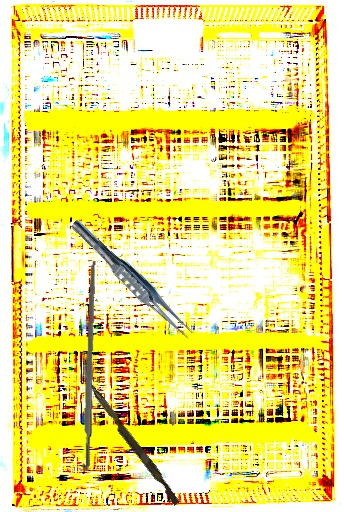Pusher: (77, 375, 184, 506)
Scalpel Handle: (81, 260, 98, 471)
Tissue Forceps: (65, 216, 199, 343)
